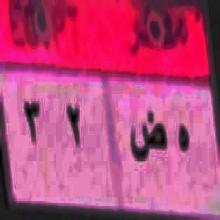2: (63, 98, 86, 152)
3: (20, 95, 48, 149)
daad: (129, 106, 167, 172)
haa: (175, 112, 193, 161)
